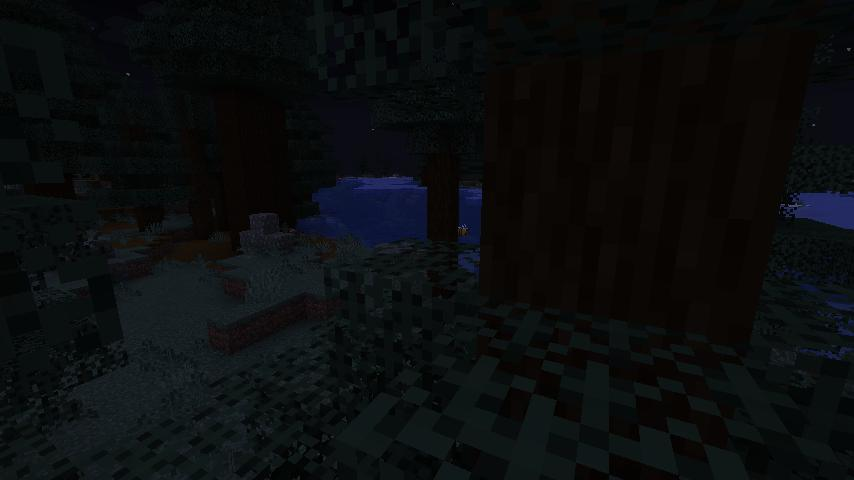bee: (456, 223, 471, 236)
